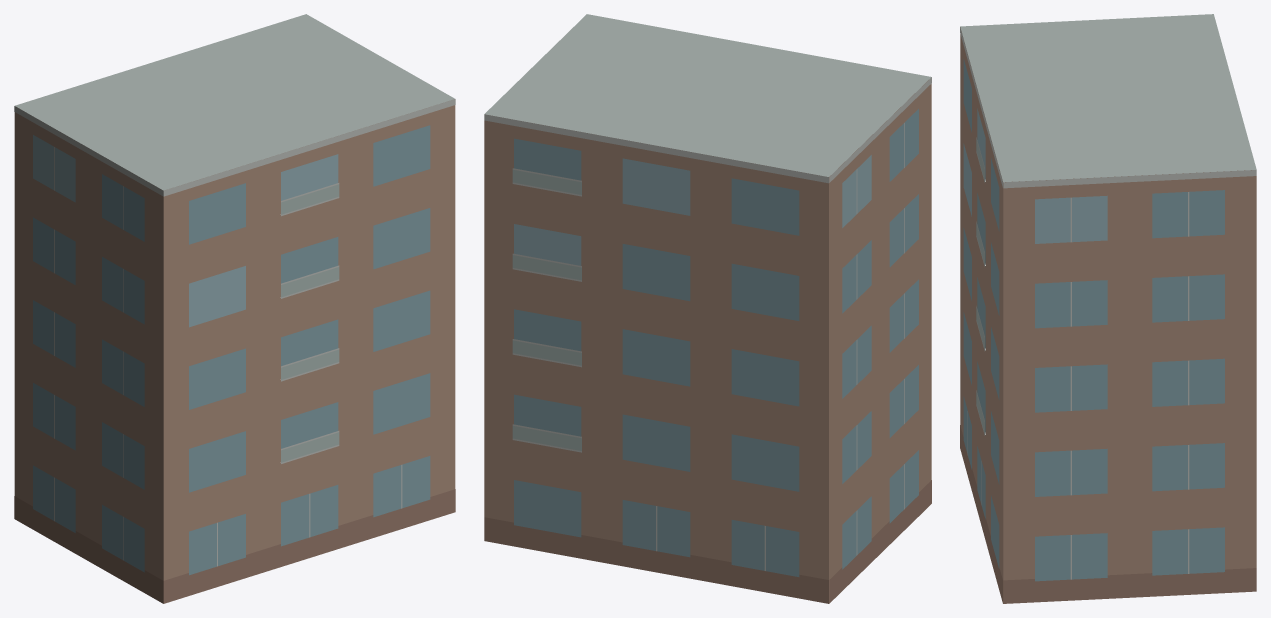
File: survey-upis-32890064.glb
The picture shows the model from 3 angles, left to right: view 1: azimuth 30°, elevation 25°; view 2: azimuth 150°, elevation 25°; view 3: azimuth 270°, elevation 25°; orthographic projection. The views are drawn at different scales.
Parts seen in each view (by area): view 1: survey-upis-32890064.tmp; view 2: survey-upis-32890064.tmp; view 3: survey-upis-32890064.tmp.
Part boxes in pixels (<box>): survey-upis-32890064.tmp: <box>14,14,455,603</box>; survey-upis-32890064.tmp: <box>484,14,931,603</box>; survey-upis-32890064.tmp: <box>960,14,1256,603</box>.
Bounding box in the file's own units: 14.3 × 16.7 × 10.66.
